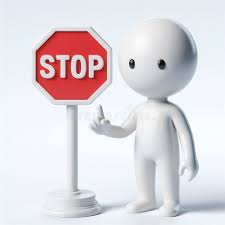stop sign: (33, 25, 112, 104)
